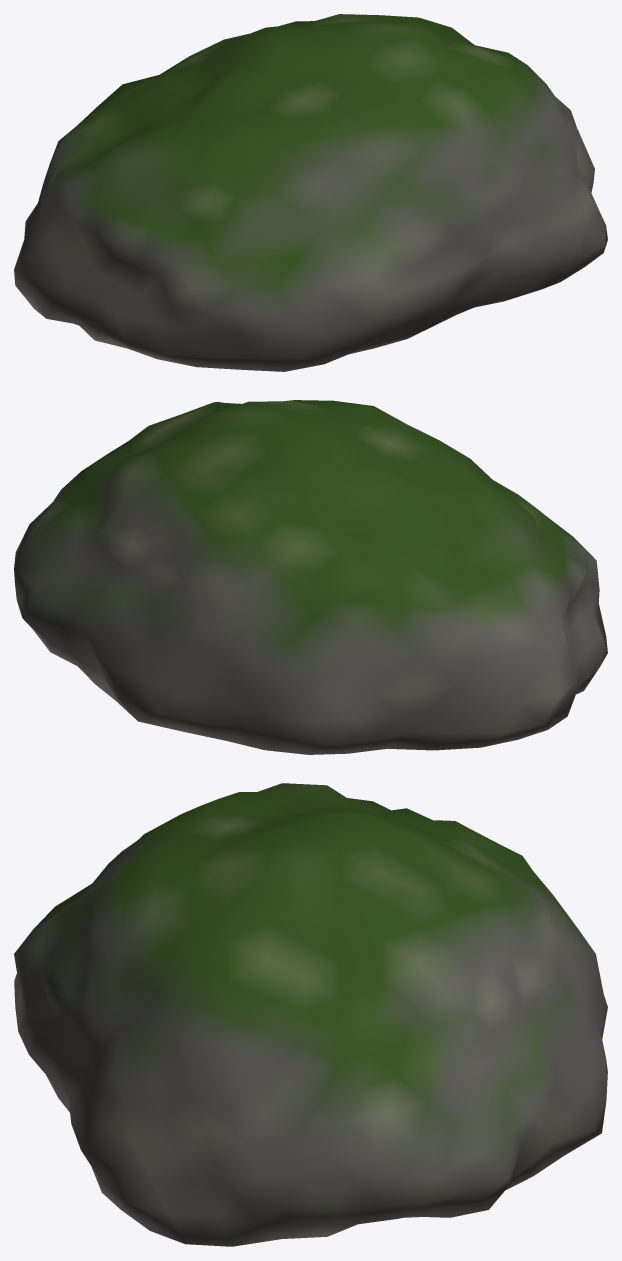
The model's file is Rock2.glb.
3 views of the same model, one above another, from view 1: azimuth 30°, elevation 25°; view 2: azimuth 150°, elevation 25°; view 3: azimuth 270°, elevation 25° (orthographic). The views are drawn at different scales.
Visible parts, largest first — view 1: Stone; view 2: Stone; view 3: Stone.
Part boxes in pixels (x1,y1,x2,y2): Stone: (14, 14, 607, 371); Stone: (14, 400, 607, 754); Stone: (14, 783, 607, 1246).
Bounding box in the file's own units: 2.3 × 0.8964 × 1.75.
